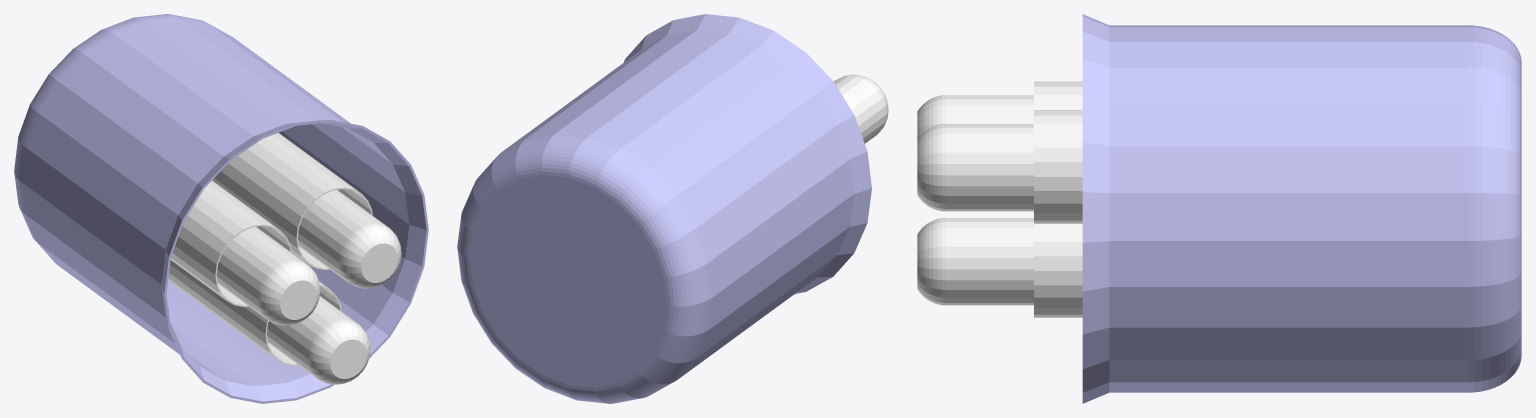
3 views of the same model, side by side, from view 1: azimuth 30°, elevation 25°; view 2: azimuth 150°, elevation 25°; view 3: azimuth 270°, elevation 25° (orthographic). The views are drawn at different scales.
Parts seen in each view (by area): view 1: beaker and test tubes; view 2: beaker and test tubes; view 3: beaker and test tubes.
Boxes of the visible parts, x1,y1,x2,y2 form: beaker and test tubes: (14, 14, 428, 403); beaker and test tubes: (457, 14, 888, 403); beaker and test tubes: (917, 14, 1521, 403).
Size of the model in its own units: 2.23 by 2.23 by 3.44.
